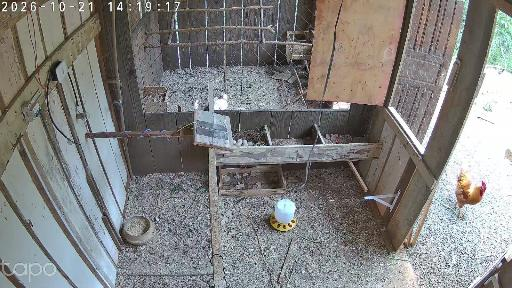galo: (455, 168, 487, 221)
ovos: (233, 138, 253, 147)
pato: (213, 93, 228, 110), (192, 100, 201, 110)
